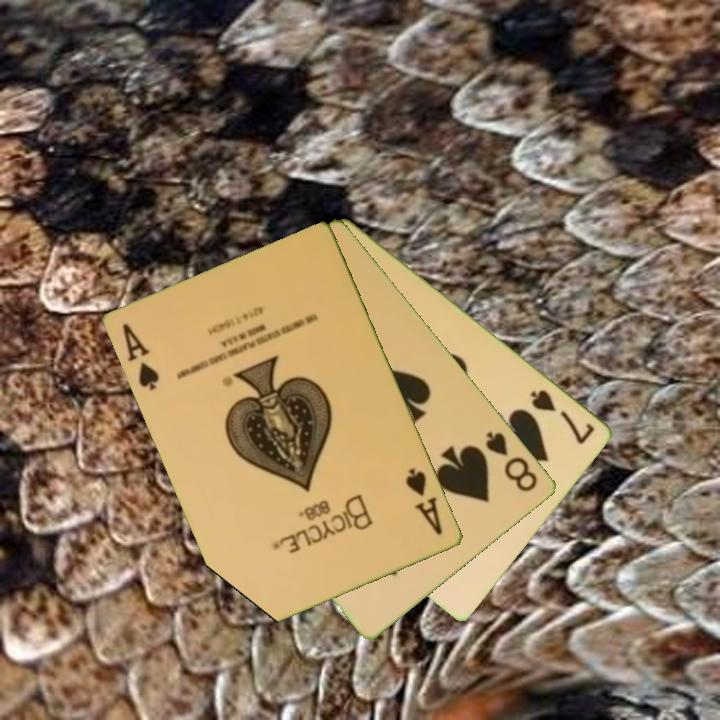7s: (527, 385, 599, 447)
8s: (482, 427, 542, 495)
As: (402, 465, 446, 539), (119, 320, 163, 394)
